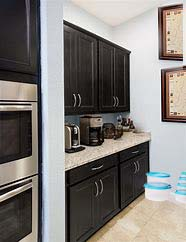copymove: (76, 1, 122, 76)
removal: (90, 225, 159, 242)
spliced: (1, 142, 89, 200)
